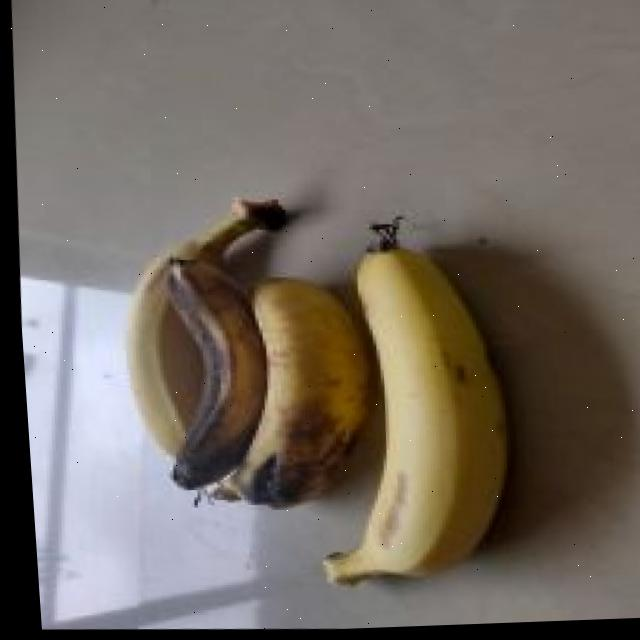Wet: (177, 264, 372, 516), (145, 253, 271, 489)
